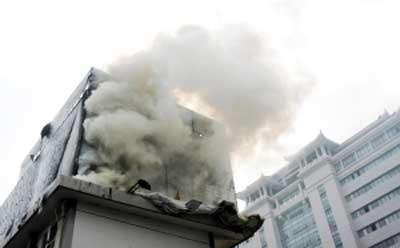smoke: (97, 30, 281, 173)
